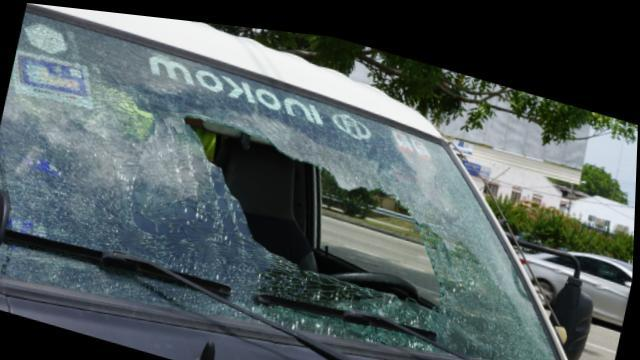glass shatter: (0, 10, 562, 356)
